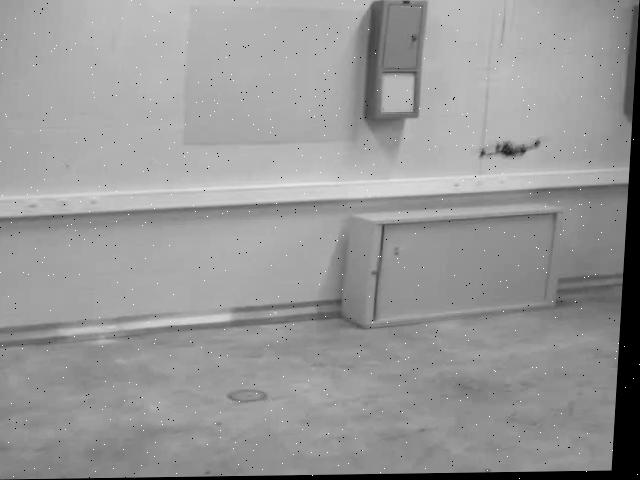drone: (478, 134, 548, 164)
